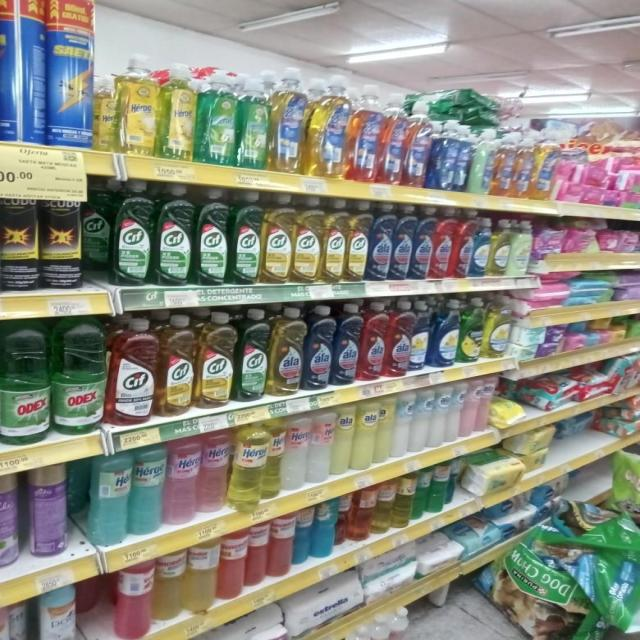ala_conc_amarillo: (270, 306, 304, 396)
ala_conc_azul: (305, 305, 333, 390), (334, 302, 359, 386), (369, 202, 392, 282), (394, 204, 413, 281), (414, 206, 433, 280)
ala_conc_rojo: (360, 301, 386, 381), (387, 300, 411, 378), (434, 207, 453, 280), (454, 211, 472, 278)
ala_crem_amarillo: (356, 400, 377, 470), (334, 404, 354, 476)
cif_conc_bot_amarilla: (160, 313, 196, 417), (198, 311, 235, 409), (262, 193, 293, 285), (294, 196, 322, 284), (324, 198, 346, 283), (347, 200, 368, 282)
cif_conc_botella_roja: (109, 317, 157, 426)
cif_conc_botella_verde: (114, 180, 153, 287), (156, 183, 193, 287), (195, 187, 229, 287), (236, 308, 268, 402), (230, 190, 261, 286), (82, 178, 112, 277)
heroe: (113, 53, 158, 156), (86, 450, 129, 546), (196, 69, 236, 165), (158, 63, 196, 162), (236, 72, 268, 170), (130, 445, 164, 536), (230, 422, 264, 508), (165, 436, 198, 524), (198, 431, 229, 514), (0, 472, 21, 578), (283, 414, 308, 492), (308, 411, 333, 484), (264, 419, 282, 498)
magistral_con_amarillo: (485, 296, 511, 360), (491, 218, 509, 277)
magistral_con_azul: (432, 298, 458, 368), (460, 297, 483, 364), (411, 300, 430, 372), (473, 216, 490, 278)
vencedor: (115, 563, 152, 639), (186, 543, 218, 612), (155, 553, 184, 621), (220, 532, 247, 600), (270, 516, 295, 578), (247, 524, 269, 587)
zorro: (309, 73, 347, 180), (270, 68, 306, 174), (348, 82, 381, 183)
